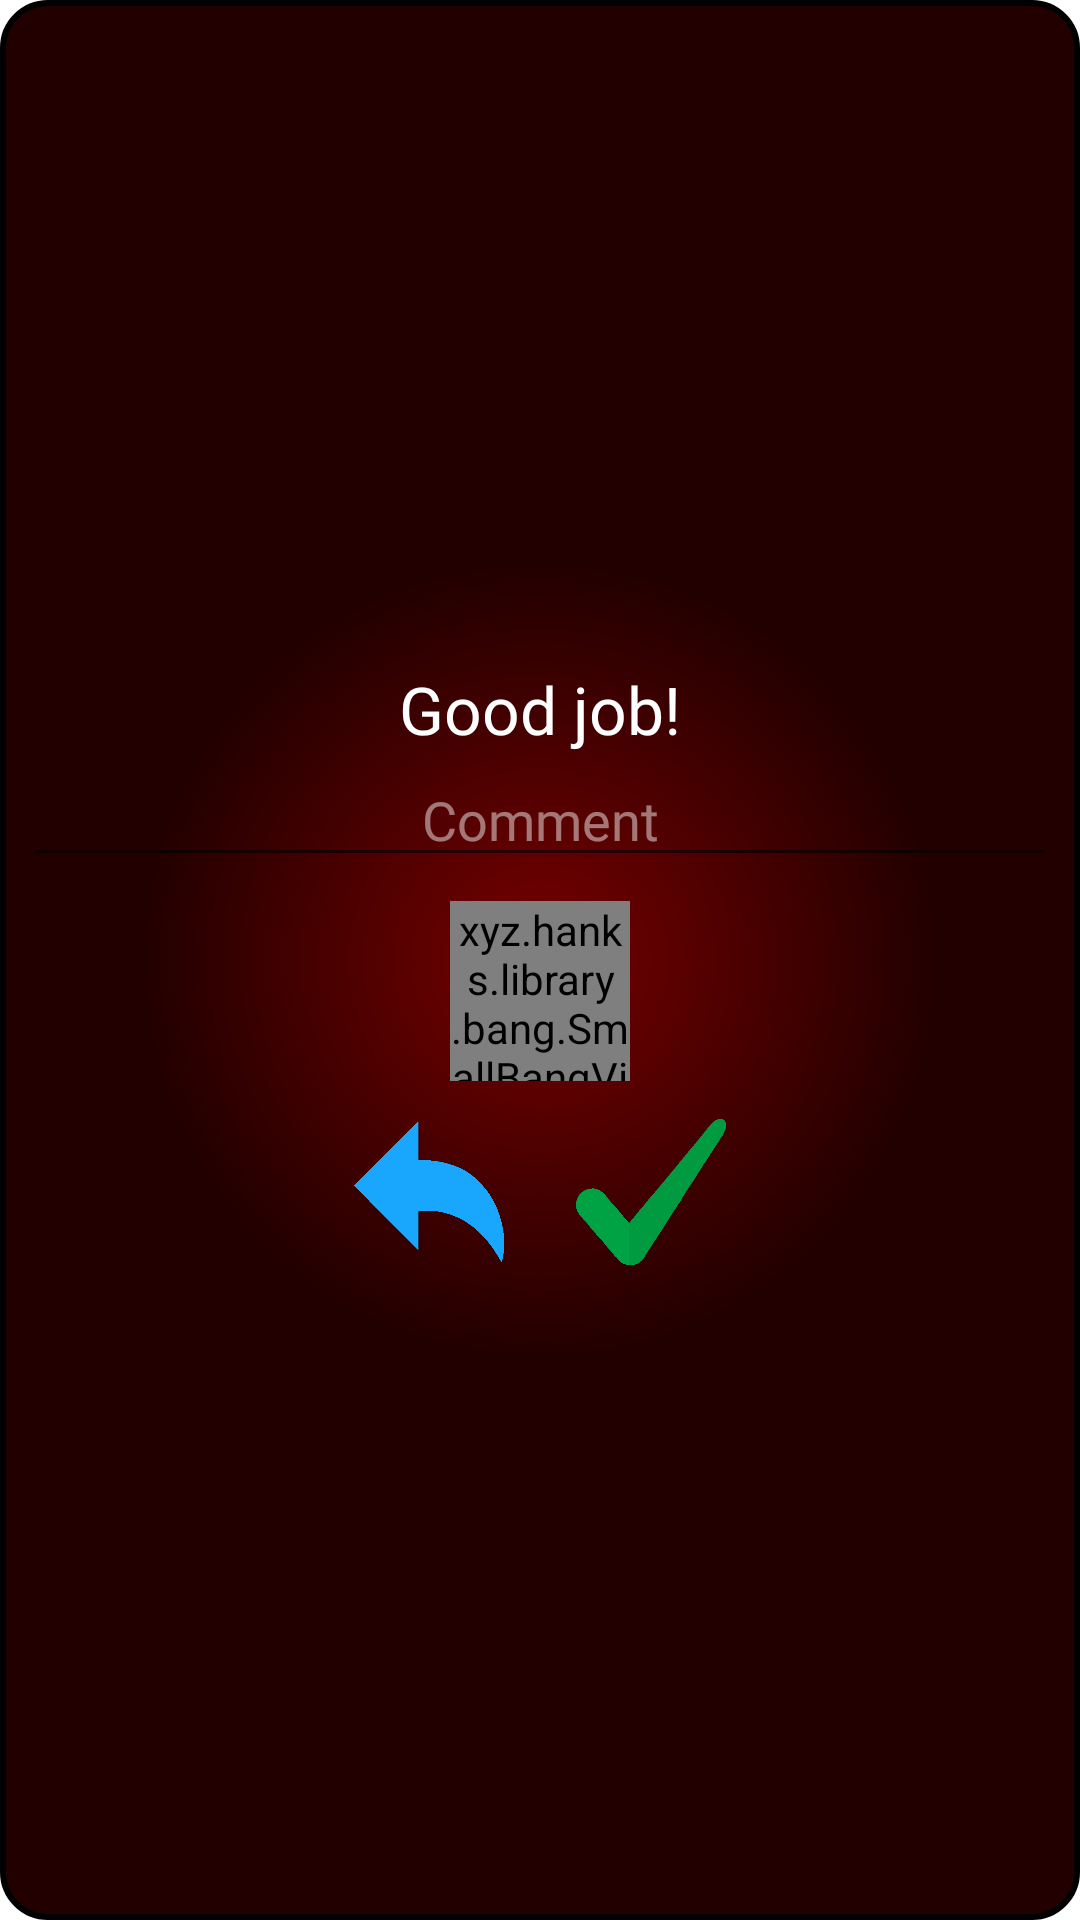

Where icons sit on this 1080px x 1920px app screen, as [x1, y1, x2, y2]:
back: [354, 1117, 504, 1262]
